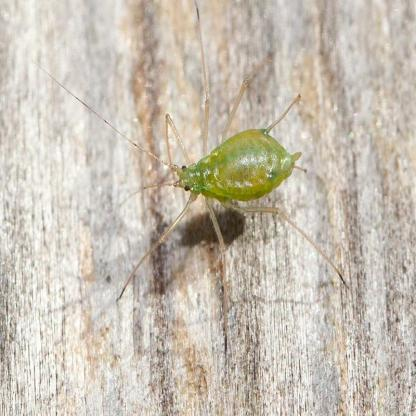aphid: (90, 56, 339, 323)
